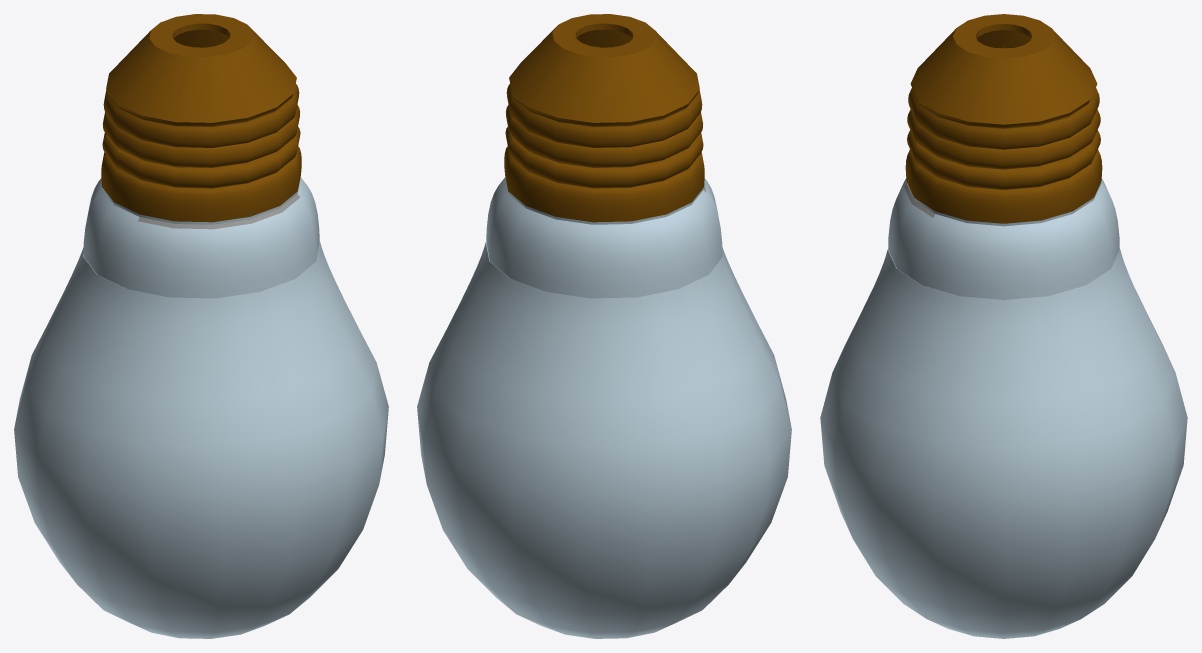
File: bombilla.FBX
3 views of the same model, side by side, from view 1: azimuth 30°, elevation 25°; view 2: azimuth 150°, elevation 25°; view 3: azimuth 270°, elevation 25° (orthographic).
Parts seen in each view (by area): view 1: Line003; view 2: Line003; view 3: Line003.
Boxes of the visible parts, x1=… form: Line003: x1=14, y1=14, x2=388, y2=638; Line003: x1=417, y1=14, x2=791, y2=638; Line003: x1=820, y1=14, x2=1187, y2=638.
Bounding box in the file's own units: 55.98 × 92.93 × 54.22.
